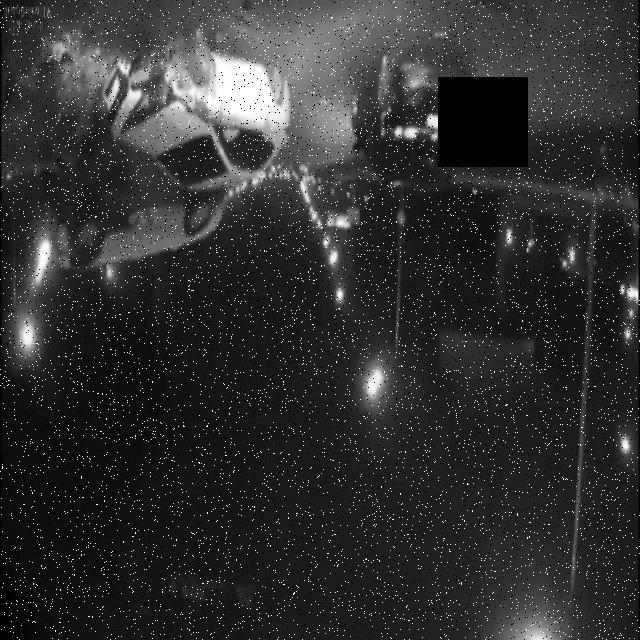person: (24, 200, 276, 290)
vehicle: (89, 44, 337, 182)
